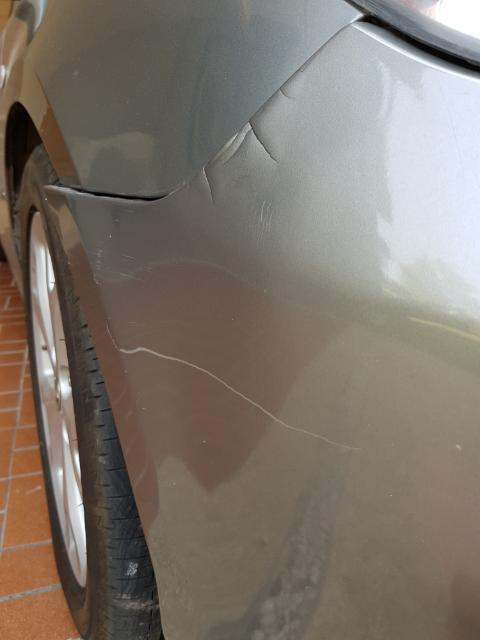scratch: (105, 320, 362, 453)
